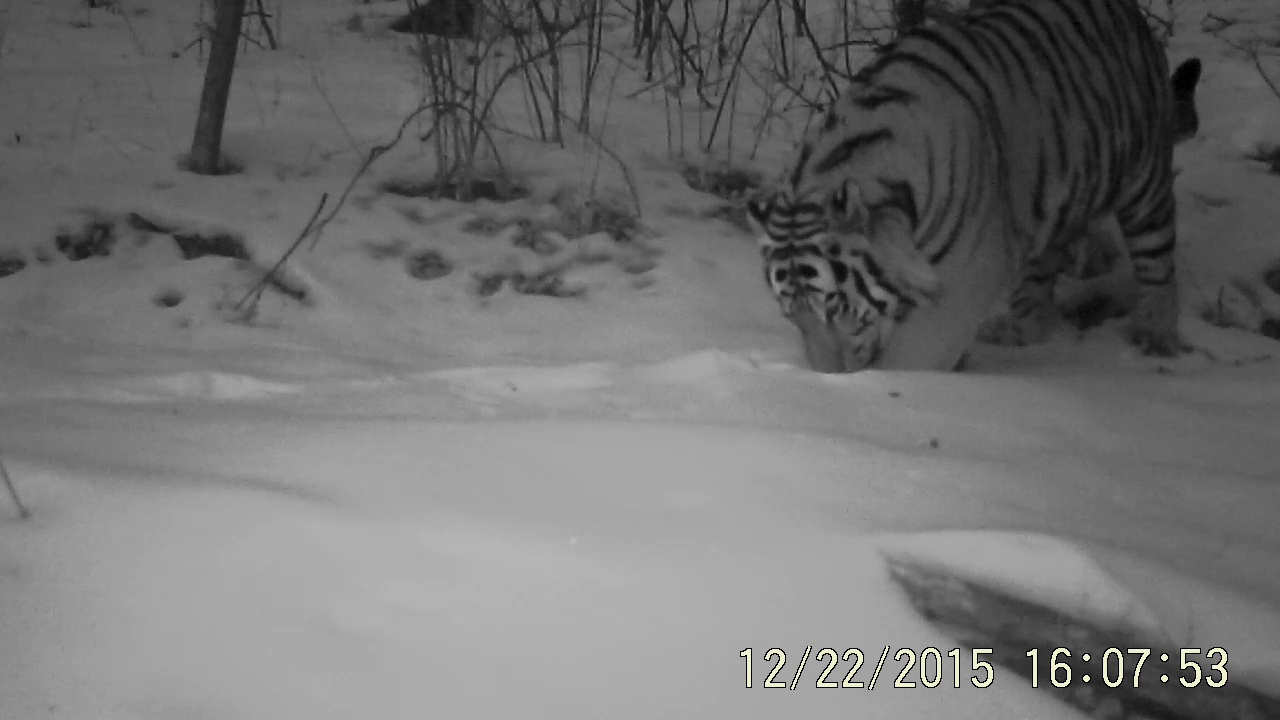Tiger: (735, 4, 1280, 477)
